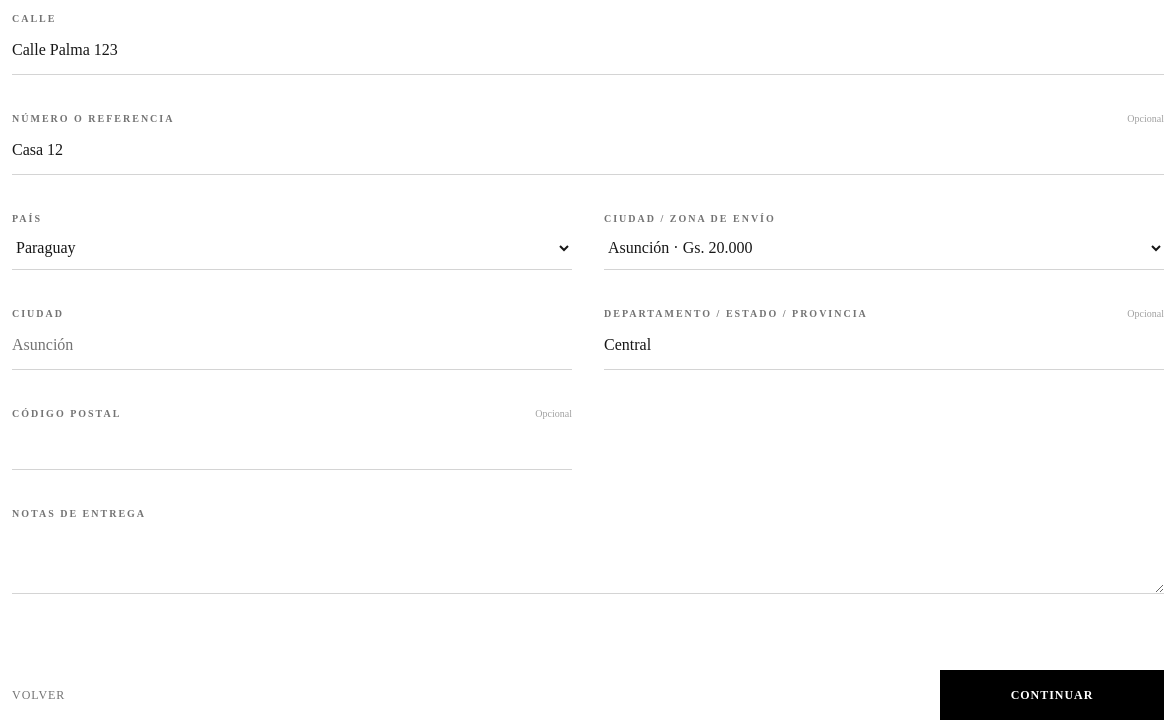
ShippingStep › required common fields › does not accept whitespace as delivery notes
(page scrolled)
Click the button "Continuar" at (1052, 695), box [940,670,1164,719]
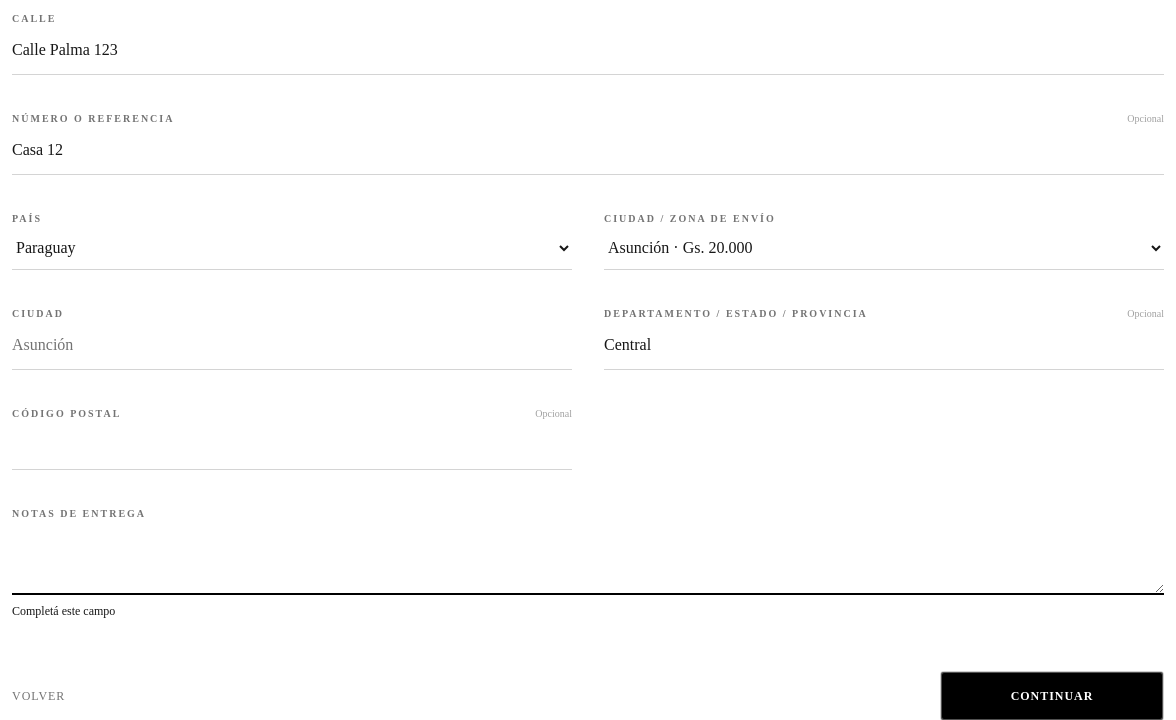
expect the text "Completá este campo" is shown: met, box [12,604,115,618]
